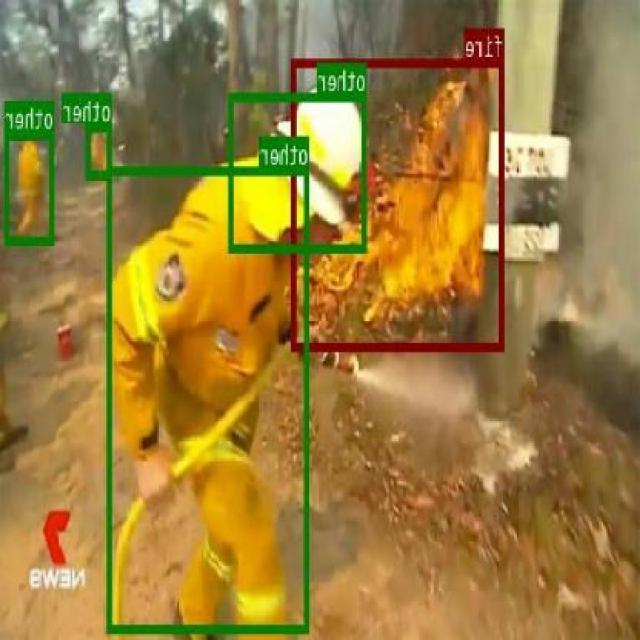Fire: (292, 56, 506, 350)
